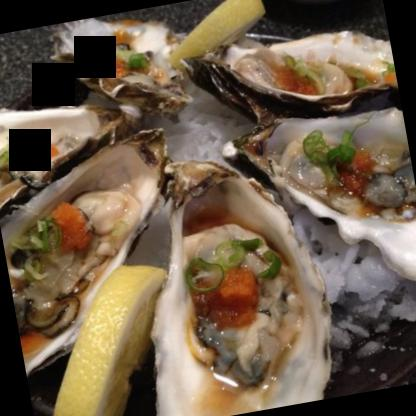oyster: (112, 129, 339, 415), (0, 126, 194, 391), (235, 93, 415, 306), (200, 6, 400, 138), (0, 68, 152, 222), (49, 2, 197, 130)
